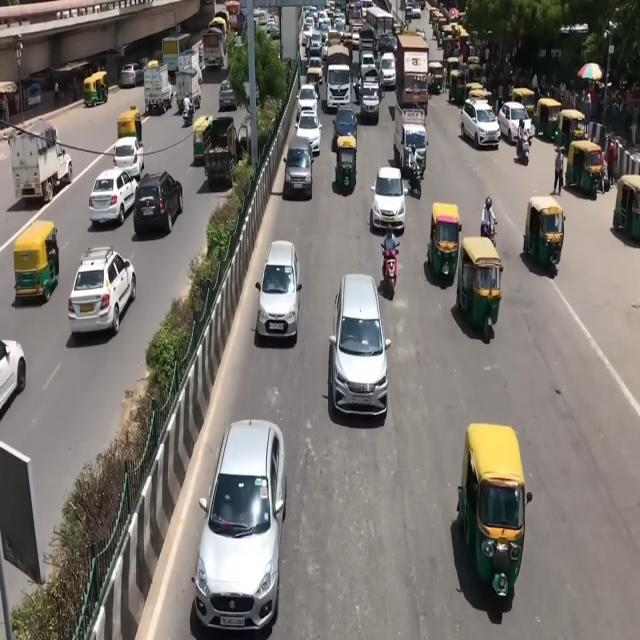auto: (456, 422, 528, 599), (455, 236, 503, 342), (12, 220, 59, 302), (522, 195, 564, 273), (426, 201, 460, 280), (566, 138, 604, 198), (612, 174, 640, 242), (333, 133, 358, 193), (556, 108, 586, 152), (534, 97, 563, 142), (193, 113, 214, 164), (117, 108, 142, 146), (83, 70, 108, 107), (448, 65, 468, 106), (427, 60, 444, 95), (465, 80, 487, 106), (467, 57, 483, 85)
bike-auto: (380, 236, 399, 295), (481, 196, 497, 242), (407, 155, 422, 197), (182, 100, 194, 126)
